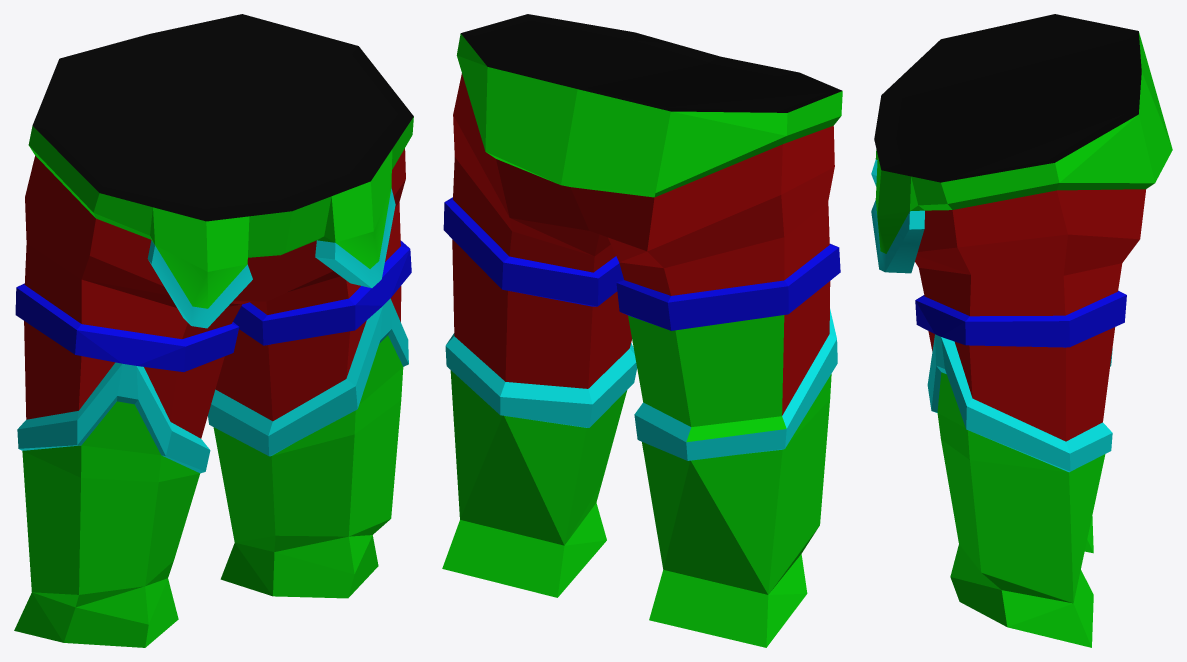
File: Chr_Hips_Male_Static_13.fbx
3 renders of one model, left to right at view 1: azimuth 30°, elevation 25°; view 2: azimuth 150°, elevation 25°; view 3: azimuth 270°, elevation 25°, orthographic. The views are drawn at different scales.
Visible parts, largest first — view 1: Chr_Hips_Male_13; view 2: Chr_Hips_Male_13; view 3: Chr_Hips_Male_13.
Boxes of the visible parts, x1,y1,x2,y2 form: Chr_Hips_Male_13: (14,14,413,647); Chr_Hips_Male_13: (442,14,842,647); Chr_Hips_Male_13: (871,14,1172,647).
Bounding box in the file's own units: 37.14 × 55.45 × 30.16.
